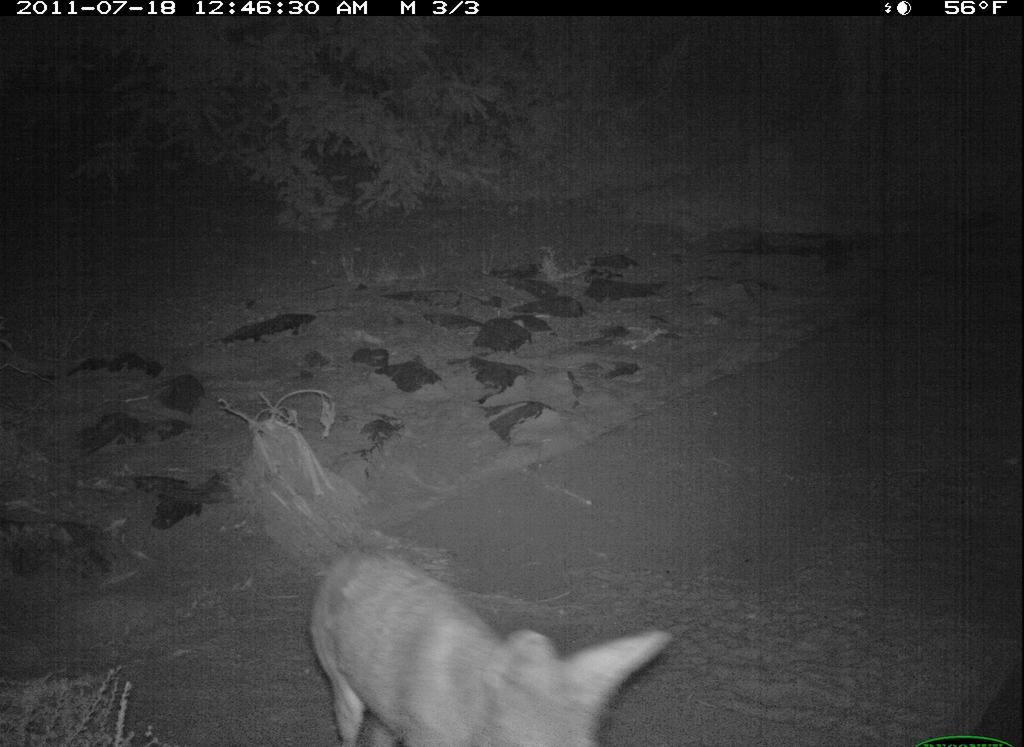coyote: (299, 537, 679, 747)
